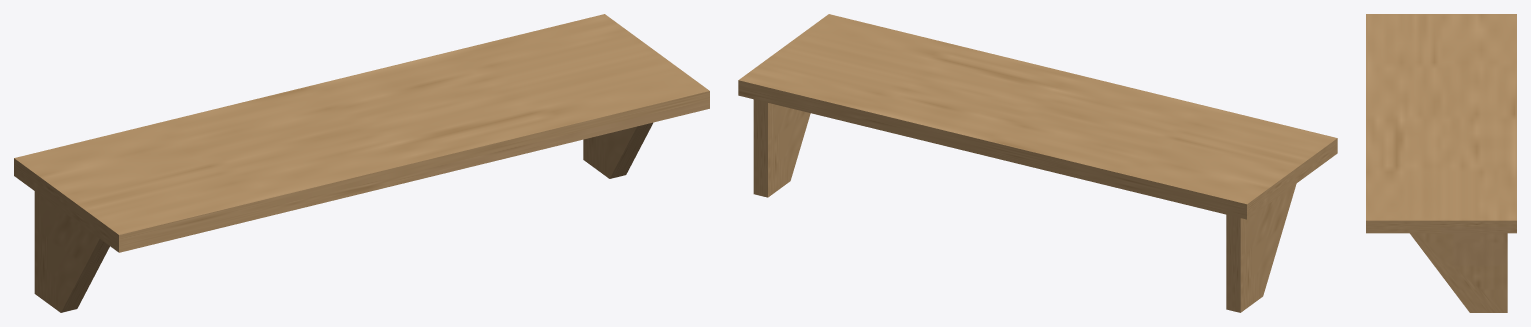
Rendered from K_Shelf.glb.
3 views of the same model, side by side, from view 1: azimuth 30°, elevation 25°; view 2: azimuth 150°, elevation 25°; view 3: azimuth 270°, elevation 25° (orthographic). The views are drawn at different scales.
Parts seen in each view (by area): view 1: Kitchen_Shelf; view 2: Kitchen_Shelf; view 3: Kitchen_Shelf.
Boxes of the visible parts, x1,y1,x2,y2 form: Kitchen_Shelf: (14, 14, 709, 312); Kitchen_Shelf: (738, 14, 1337, 312); Kitchen_Shelf: (1366, 14, 1516, 312).
Size of the model in its own units: 1.54 by 0.3343 by 0.4741.
1 material, 1 textured.
